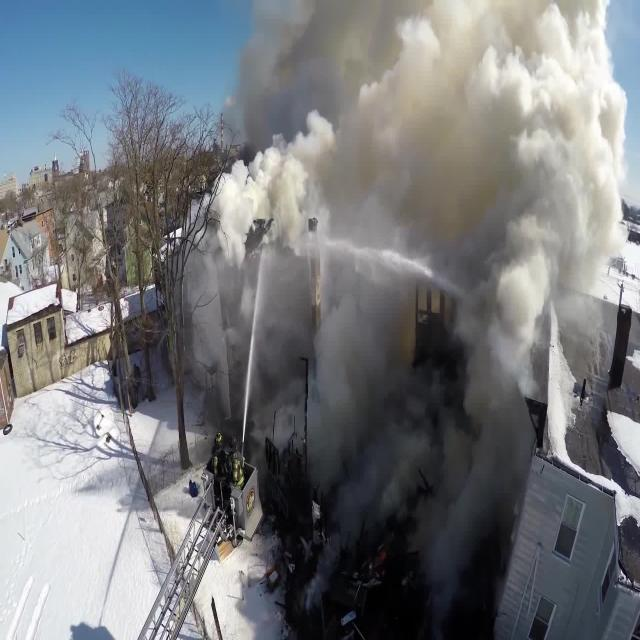Smoke: (205, 2, 607, 572)
